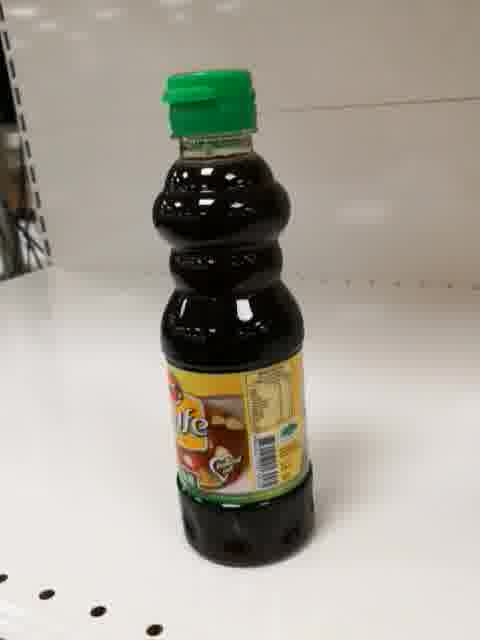cookingoil: (148, 66, 319, 571)
